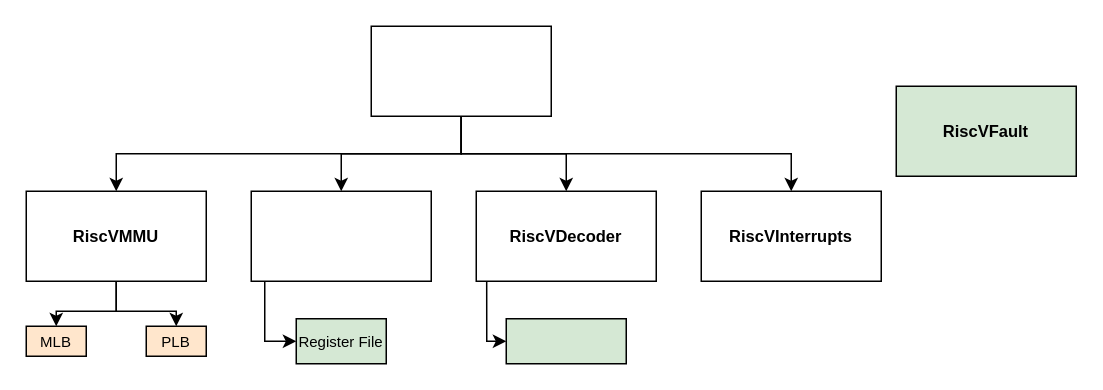
Some shapes in this 1103 by 390 pixel diagram are drawn without their labels. The shapes that lost their labels are listed below. From the top down, each one's centre as x and y in pixels, then its label:
At point (460, 70): "RiscVCPU".
At point (340, 235): "RiscVISA".
At point (565, 340): "Instructions".
